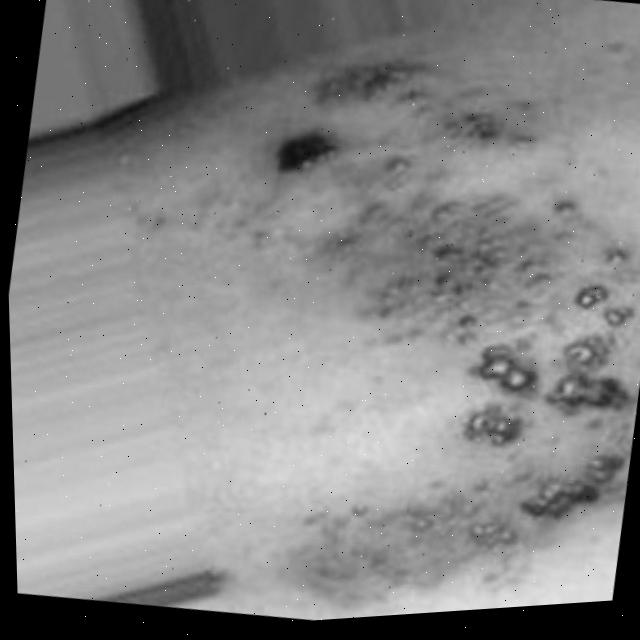Shingles: (197, 24, 640, 627)
